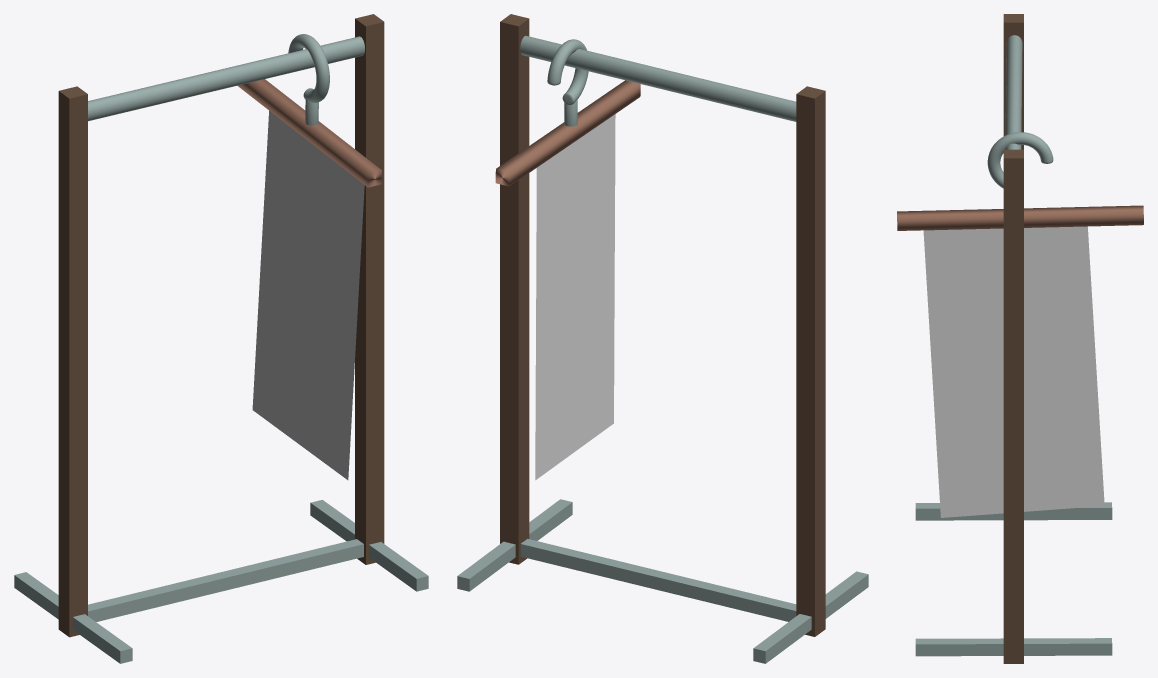
File: lab coatFINAL.fbx
The picture shows the model from 3 angles, left to right: view 1: azimuth 30°, elevation 25°; view 2: azimuth 150°, elevation 25°; view 3: azimuth 270°, elevation 25°; orthographic projection. The views are drawn at different scales.
Parts seen in each view (by area): view 1: Plane, Cube.003, Cube.004, Cube, Cylinder, Cube.005, Cube.001, Cube.002, Torus; view 2: Plane, Cube.003, Cube.004, Cube, Cylinder, Cube.005, Cube.001, Cube.002, Torus; view 3: Plane, Cube.004, Cube.005, Cube.002, Cube.001, Cylinder, Torus, Cube.003.
Part boxes in pixels (x1=…): Plane: x1=252, y1=111, x2=364, y2=480; Cube.003: x1=58, y1=86, x2=87, y2=637; Cube.004: x1=355, y1=14, x2=384, y2=564; Cube: x1=88, y1=539, x2=363, y2=621; Cylinder: x1=88, y1=36, x2=364, y2=121; Cube.005: x1=237, y1=79, x2=381, y2=187; Cube.001: x1=14, y1=572, x2=132, y2=663; Cube.002: x1=310, y1=500, x2=428, y2=591; Torus: x1=288, y1=34, x2=329, y2=102; Plane: x1=535, y1=114, x2=615, y2=480; Cube.003: x1=796, y1=86, x2=825, y2=636; Cube.004: x1=500, y1=14, x2=529, y2=564; Cube: x1=520, y1=539, x2=796, y2=621; Cylinder: x1=520, y1=35, x2=796, y2=121; Cube.005: x1=495, y1=80, x2=640, y2=186; Cube.001: x1=753, y1=571, x2=868, y2=663; Cube.002: x1=457, y1=499, x2=572, y2=591; Torus: x1=547, y1=39, x2=588, y2=105; Plane: x1=923, y1=226, x2=1104, y2=517; Cube.004: x1=1003, y1=149, x2=1023, y2=663; Cube.005: x1=897, y1=205, x2=1143, y2=230; Cube.002: x1=915, y1=638, x2=1112, y2=656; Cube.001: x1=915, y1=502, x2=1112, y2=520; Cylinder: x1=1005, y1=35, x2=1022, y2=149; Torus: x1=987, y1=132, x2=1053, y2=188; Cube.003: x1=1003, y1=14, x2=1023, y2=149.
Bounding box in the file's own units: 264 × 431 × 191.
